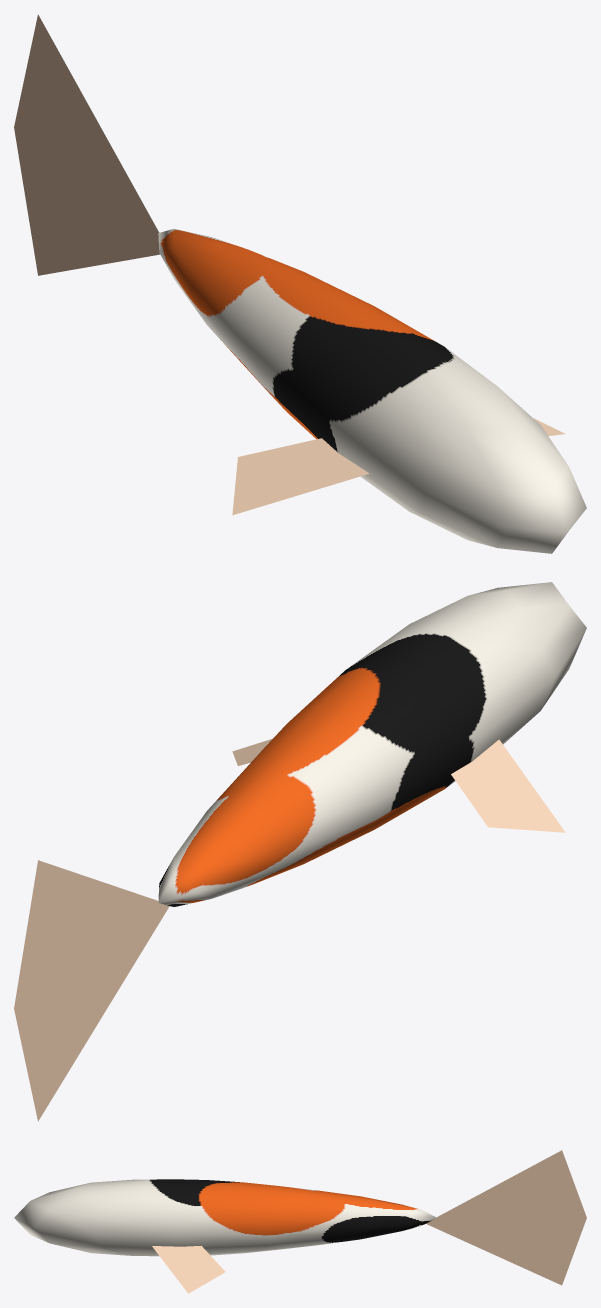
The model's file is Koi_3.glb.
3 renders of one model, top to bottom at view 1: azimuth 30°, elevation 25°; view 2: azimuth 150°, elevation 25°; view 3: azimuth 270°, elevation 25°, orthographic. The views are drawn at different scales.
Parts seen in each view (by area): view 1: Koi_3, Tail; view 2: Koi_3, Tail; view 3: Koi_3, Tail.
Part boxes in pixels (left/top/right/bottom): Koi_3: left=158, top=229, right=586, bottom=553; Tail: left=14, top=14, right=159, bottom=275; Koi_3: left=158, top=582, right=586, bottom=906; Tail: left=14, top=860, right=169, bottom=1121; Koi_3: left=14, top=1179, right=436, bottom=1293; Tail: left=426, top=1150, right=586, bottom=1285.
Bounding box in the file's own units: 0.16 × 0.12 × 0.46.
Materials: 2 (1 with a texture image).
